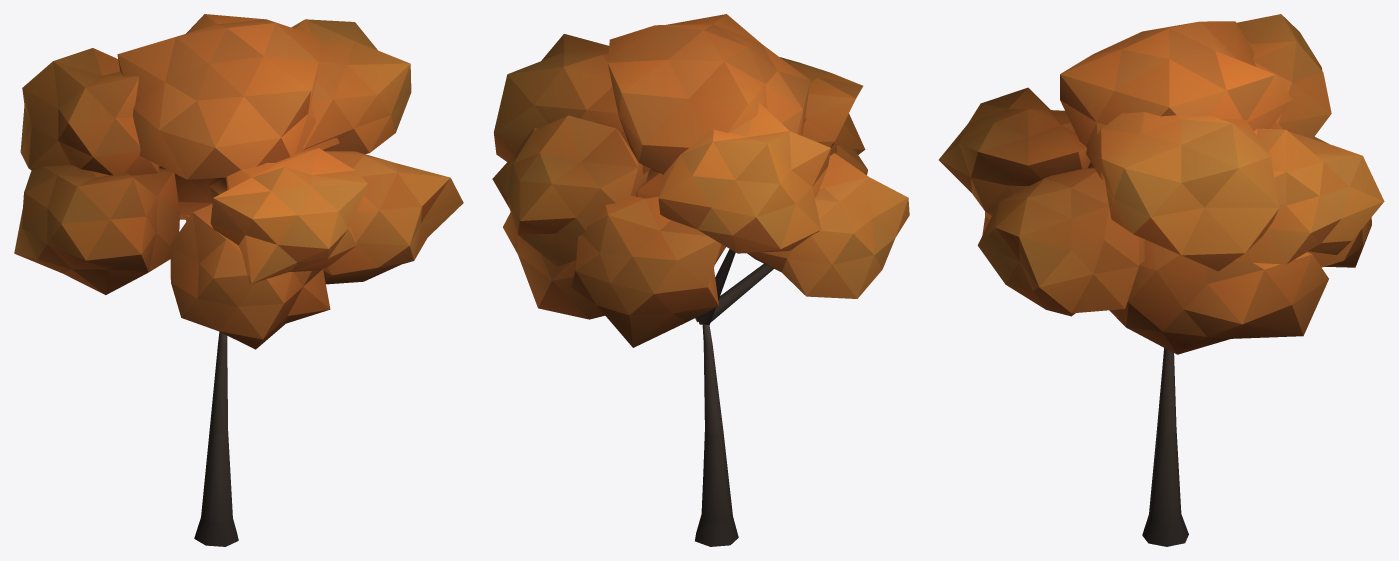
File: maple_orange.glb
3 renders of one model, left to right at view 1: azimuth 30°, elevation 25°; view 2: azimuth 150°, elevation 25°; view 3: azimuth 270°, elevation 25°, orthographic.
Parts seen in each view (by area): view 1: maple_orange; view 2: maple_orange; view 3: maple_orange.
Boxes of the visible parts, x1,y1,x2,y2 form: maple_orange: (14,14,463,546); maple_orange: (492,14,909,546); maple_orange: (939,14,1384,546).
Size of the model in its own units: 6.29 by 8.36 by 6.57.
